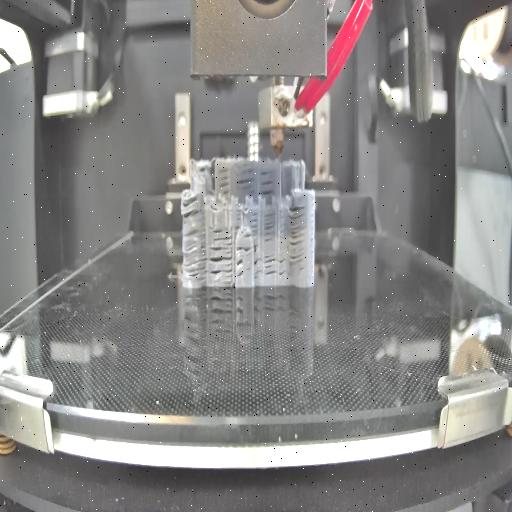cracks: (183, 228, 207, 278), (288, 203, 306, 267), (210, 244, 232, 280), (254, 256, 288, 278), (236, 167, 256, 195), (183, 196, 203, 220), (260, 168, 276, 196), (220, 164, 232, 196), (265, 210, 275, 244), (212, 228, 232, 244), (250, 206, 259, 232), (233, 210, 243, 232), (238, 244, 260, 254), (237, 258, 245, 280), (200, 166, 210, 176), (242, 232, 252, 240)
